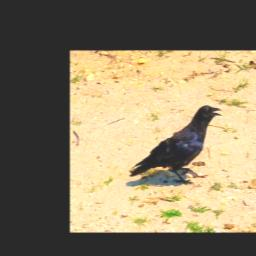Crow: (130, 105, 222, 184)
